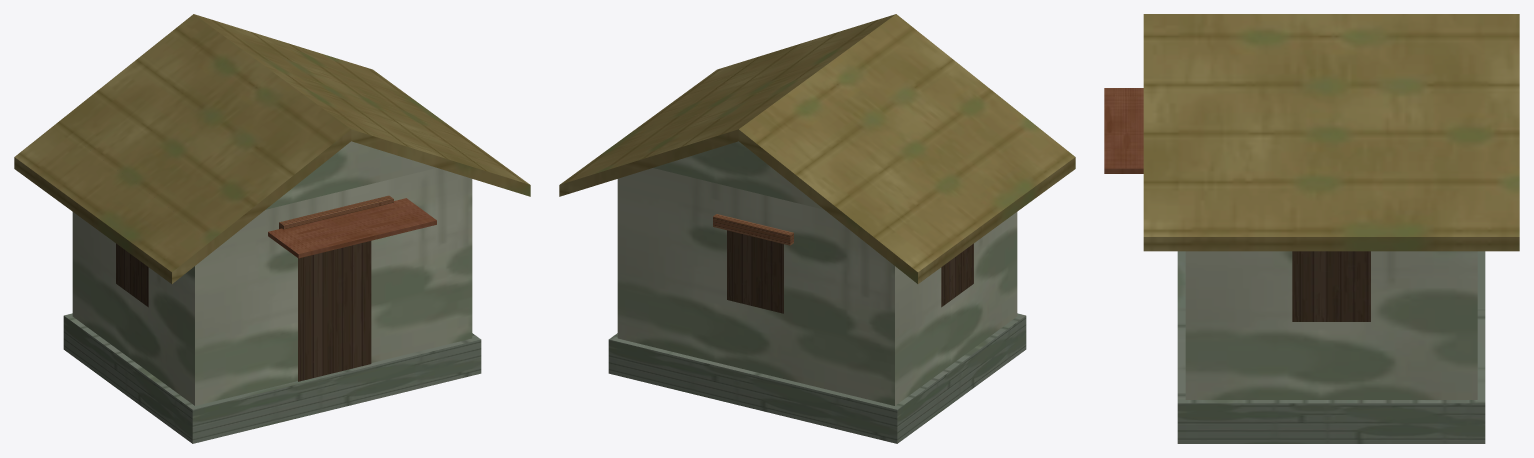
File: ae_jungle_stone_small_booth_lod1.glb
The picture shows the model from 3 angles, left to right: view 1: azimuth 30°, elevation 25°; view 2: azimuth 150°, elevation 25°; view 3: azimuth 270°, elevation 25°; orthographic projection. The views are drawn at different scales.
Visible parts, largest first — view 1: ae_jungle_stone_small_booth_lod1; view 2: ae_jungle_stone_small_booth_lod1; view 3: ae_jungle_stone_small_booth_lod1.
Boxes of the visible parts, x1,y1,x2,y2 form: ae_jungle_stone_small_booth_lod1: [14, 14, 530, 443]; ae_jungle_stone_small_booth_lod1: [559, 14, 1075, 443]; ae_jungle_stone_small_booth_lod1: [1104, 14, 1519, 443].
Size of the model in its own units: 4.4 by 3.4 by 3.7.
1 material, 1 textured.
